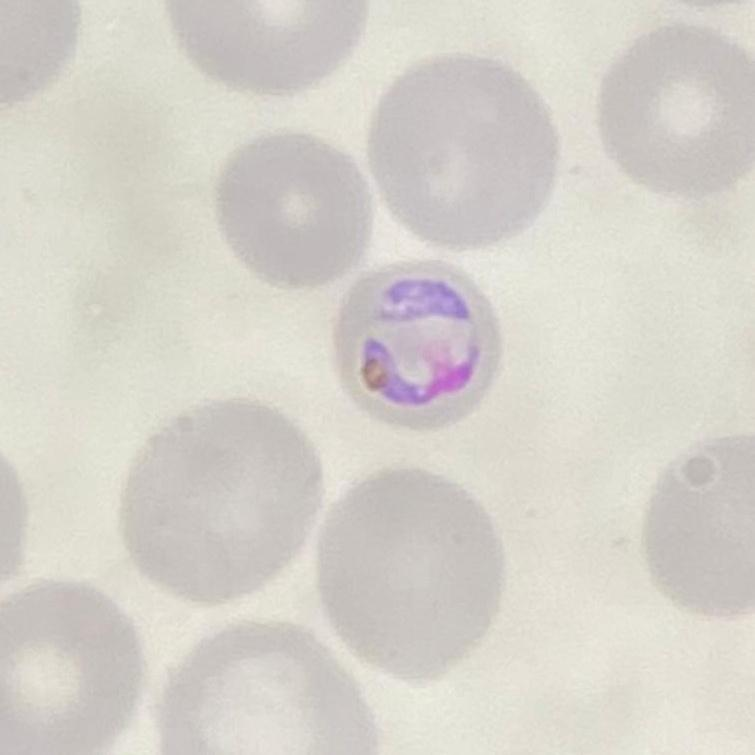Infected: (335, 263, 500, 430)
Uninfected: (124, 400, 323, 607), (323, 466, 507, 686), (371, 56, 557, 250), (166, 622, 385, 755), (219, 132, 382, 290), (599, 25, 751, 194), (0, 580, 145, 755), (644, 436, 755, 622), (167, 0, 364, 95)
